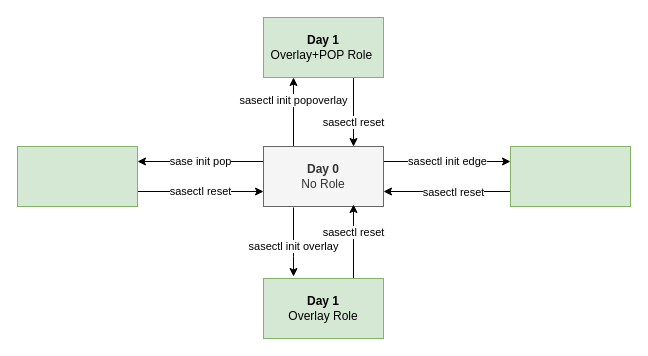
Image size: 648x356. Some labels were removed from this diagram. The shapes that lost their labels are listed below. From the top down, each one's centre as x and y in pixels, then its label:
the point at 77,176: Day 1 POP Role
the point at 570,176: Day 1 Edge Role
